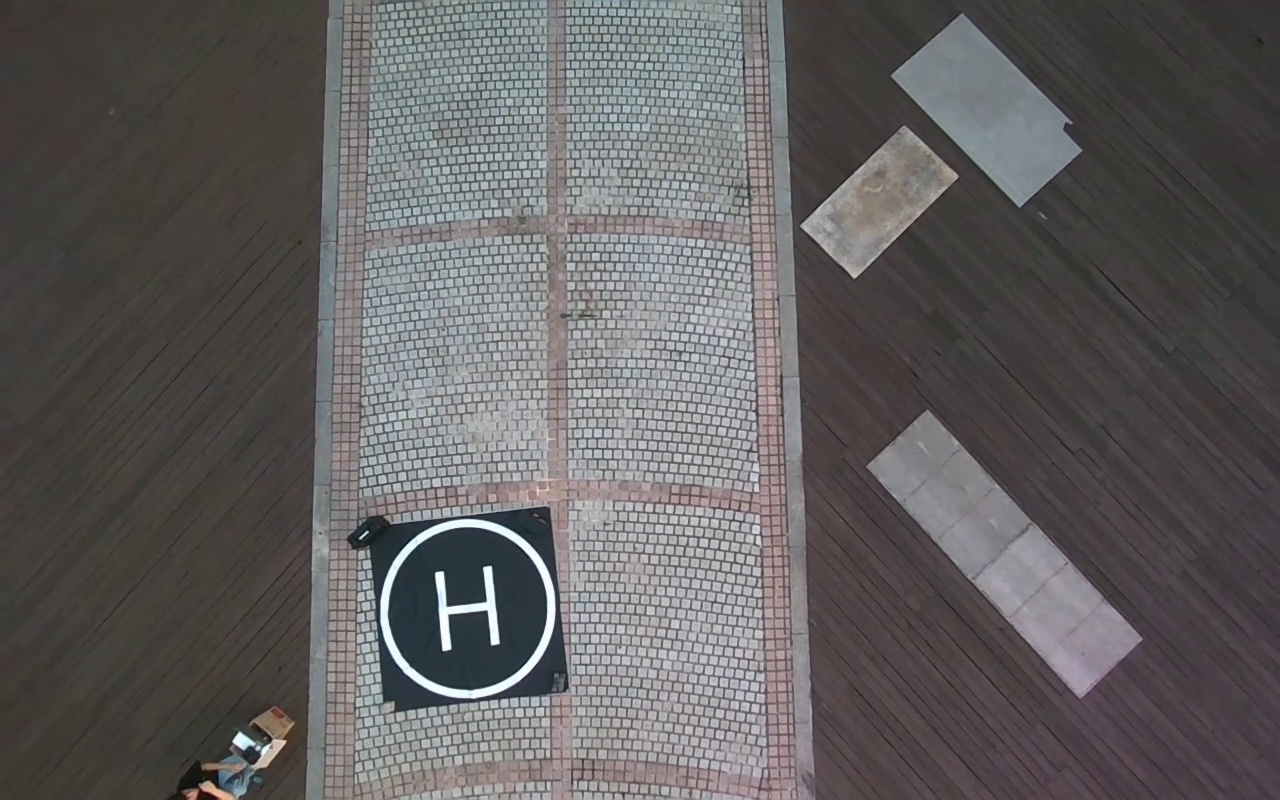H: (434, 564, 502, 651)
heliport: (379, 517, 557, 695)
